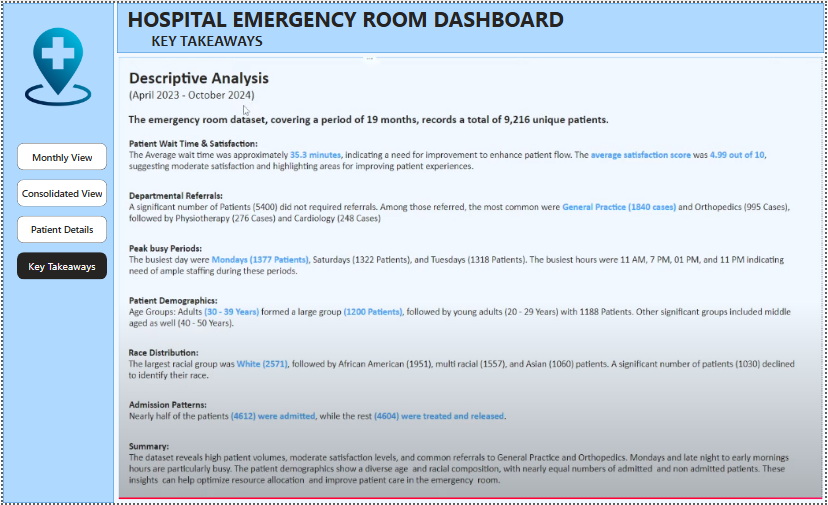

Layout of this report page (visuals, bound fields, positions):
{"tool":"powerbi","page":{"name":"Key Takeaways","canvas":[2300,1400],"ordinal":3},"visuals":[{"type":"shape","box":[0,0,310.8,1400],"z":0},{"type":"shape","box":[319.9,0,1980.1,140],"z":1000},{"type":"textbox","box":[319.9,0,1279.8,90.6],"z":2000},{"type":"textbox","box":[319.2,75.6,504,64.4],"z":3000},{"type":"image","box":[39.2,44.8,229.6,268.8],"z":4000},{"type":"pageNavigator","box":[39.2,392,252,383.6],"z":5000},{"type":"image","box":[319.2,140,1979.6,1260],"z":6000}]}

Visuals, with their boxes in screenshot pixels (x1, y1, x2, y2), scaled from the page's 2300x1400 canvas onto the 828x505 screenshot:
shape: rect(0, 0, 112, 504)
shape: rect(115, 0, 827, 50)
textbox: rect(115, 0, 576, 33)
textbox: rect(115, 27, 296, 50)
image: rect(14, 16, 97, 113)
pageNavigator: rect(14, 141, 105, 280)
image: rect(115, 50, 827, 504)
